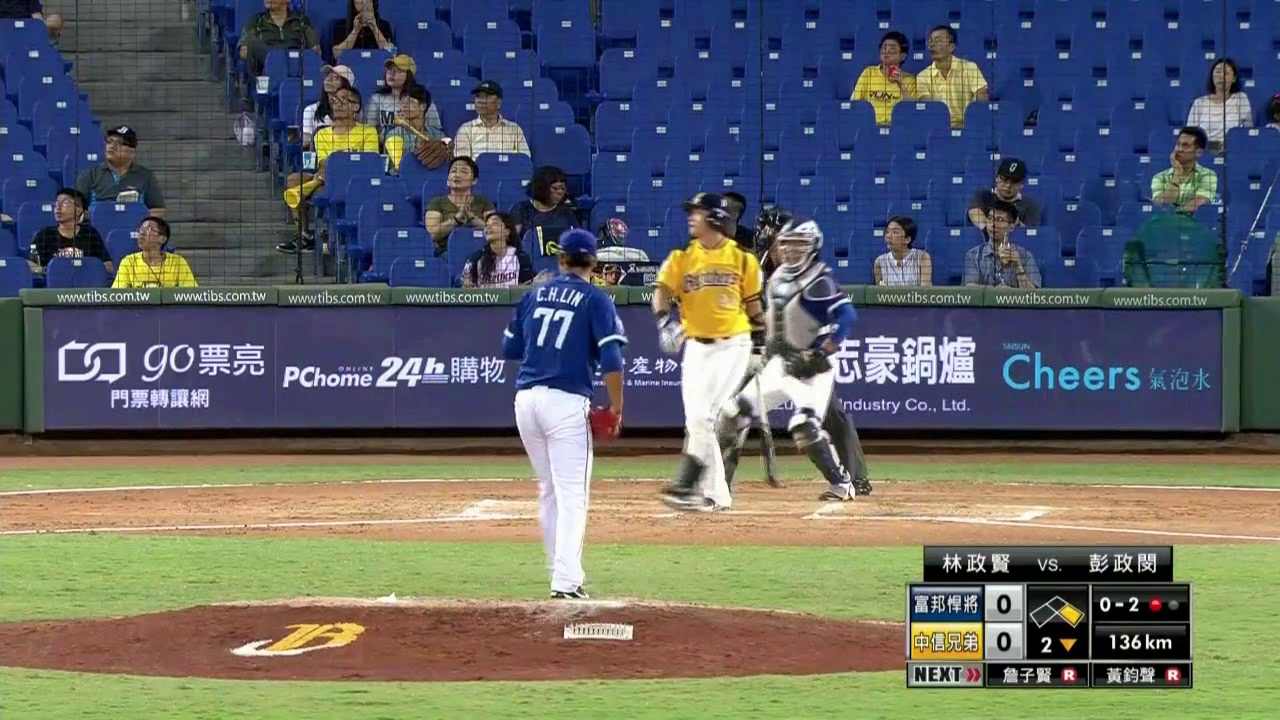base: (1030, 593, 1085, 627)
bat: (752, 362, 784, 490)
out: (1144, 585, 1186, 616)
score1: (987, 586, 1019, 617)
score2: (988, 625, 1022, 656)
session: (1030, 628, 1086, 658)
speed: (1095, 626, 1185, 655)
strikeball: (1093, 587, 1143, 621)
